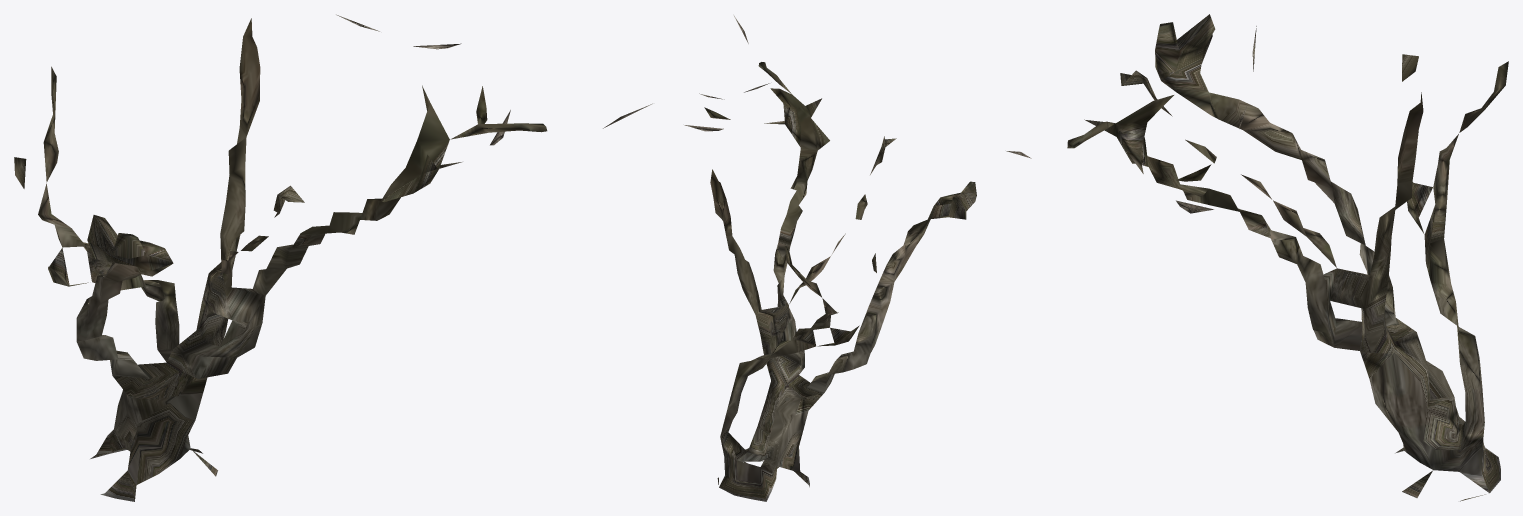
Rendered from island_tree_02_L1_madera.glb.
3 views of the same model, side by side, from view 1: azimuth 30°, elevation 25°; view 2: azimuth 150°, elevation 25°; view 3: azimuth 270°, elevation 25° (orthographic). The views are drawn at different scales.
Parts seen in each view (by area): view 1: island_tree_02_LOD0; view 2: island_tree_02_LOD0; view 3: island_tree_02_LOD0.
Boxes of the visible parts, left/top/right/bottom form: island_tree_02_LOD0: left=14, top=14, right=652, bottom=501; island_tree_02_LOD0: left=684, top=16, right=976, bottom=501; island_tree_02_LOD0: left=1006, top=14, right=1508, bottom=501.
Bounding box in the file's own units: 2.62 × 2.78 × 2.59.
Materials: 2 (2 with a texture image).
